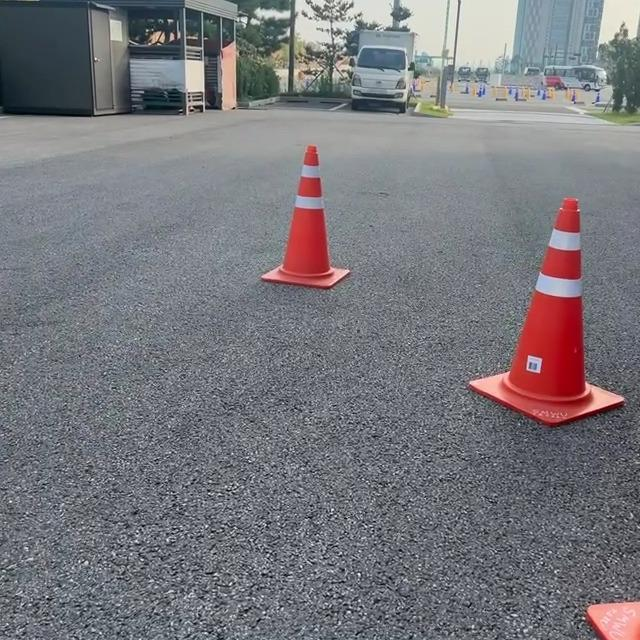fallen_object: (433, 163, 621, 505), (253, 102, 346, 323)
